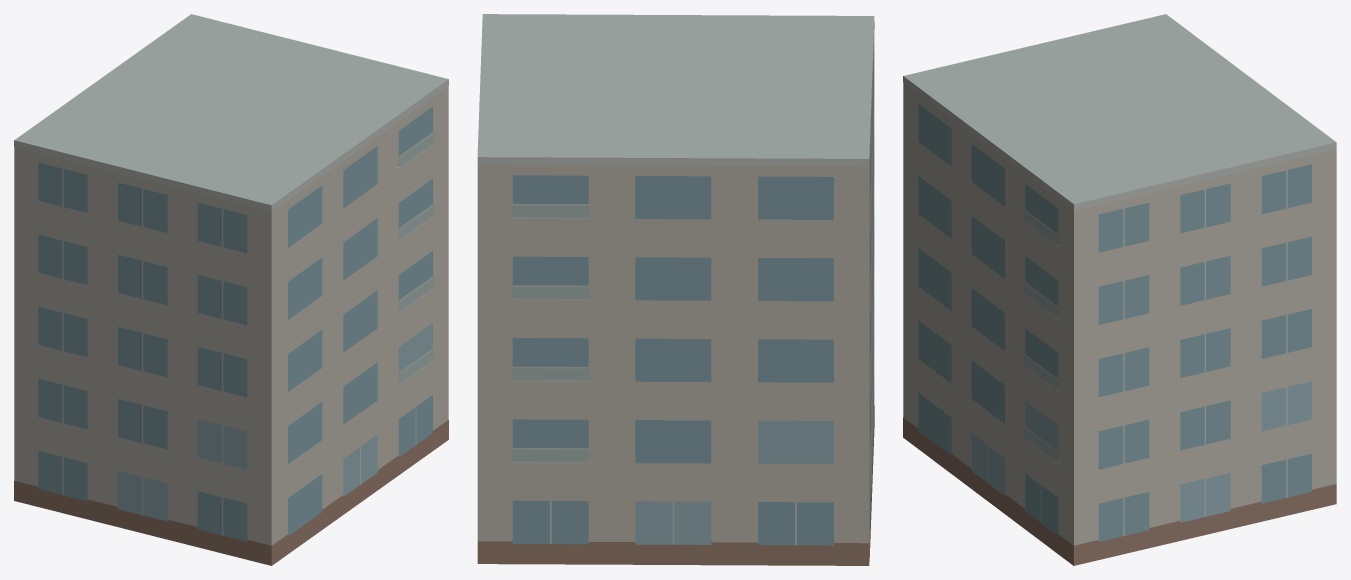
The model's file is survey-upis-32712021.glb.
The picture shows the model from 3 angles, left to right: view 1: azimuth 30°, elevation 25°; view 2: azimuth 150°, elevation 25°; view 3: azimuth 270°, elevation 25°; orthographic projection. The views are drawn at different scales.
Visible parts, largest first — view 1: survey-upis-32712021.tmp; view 2: survey-upis-32712021.tmp; view 3: survey-upis-32712021.tmp.
Part boxes in pixels (left/top/right/bottom): survey-upis-32712021.tmp: left=14, top=14, right=448, bottom=565; survey-upis-32712021.tmp: left=477, top=14, right=874, bottom=565; survey-upis-32712021.tmp: left=903, top=14, right=1336, bottom=565.
Bounding box in the file's own units: 14.79 × 13.1 × 14.24.
